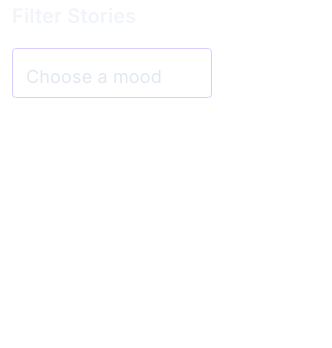
Test: TagFilter › displays all available tags in dropdown
Press the mouse on the dropdown named "Choose a mood" at (112, 73), box [12,48,212,98]
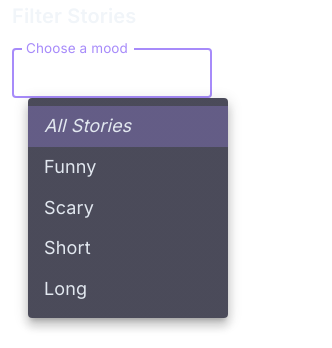
Now the text "All Stories" is shown, box [44,112,131,141]
Now the option "Funny" is shown, box [44,156,96,177]
Now the option "Scary" is shown, box [44,197,94,218]
